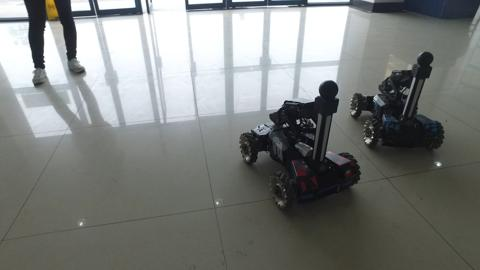chariot: (239, 75, 366, 217), (349, 47, 450, 161)
